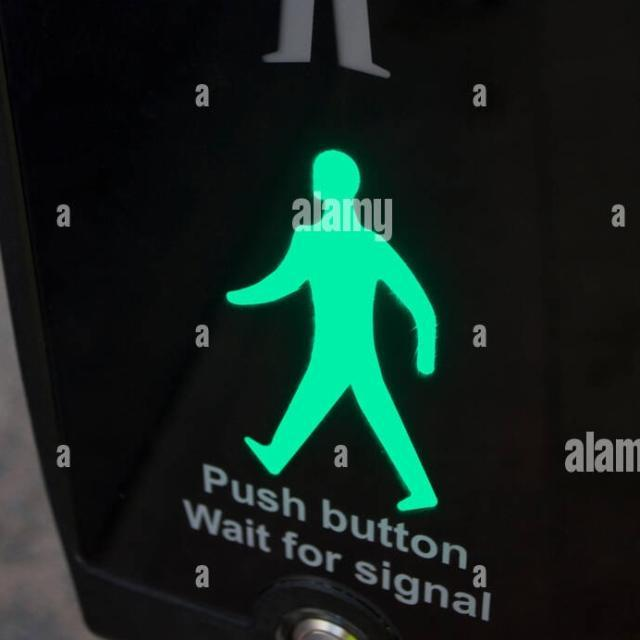green-light: (219, 141, 468, 532)
